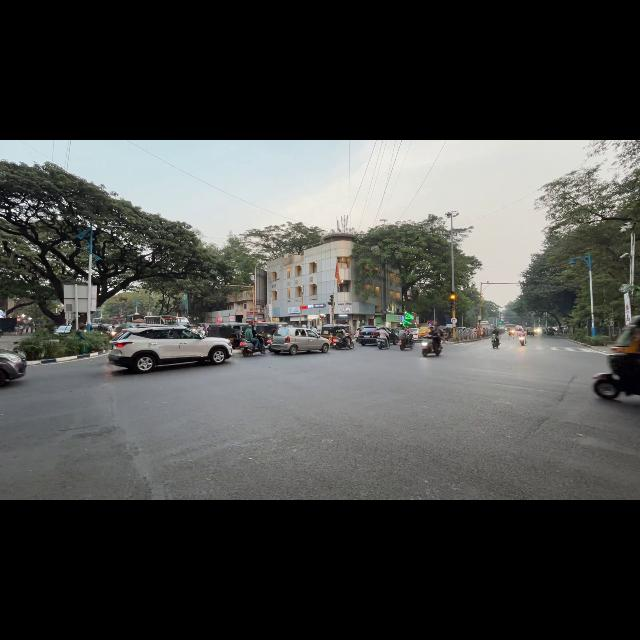bus: (145, 315, 177, 325), (125, 314, 145, 323)
car: (108, 325, 232, 372), (271, 328, 330, 354), (0, 350, 26, 385), (357, 326, 398, 345), (357, 326, 378, 345), (54, 325, 72, 336), (408, 328, 418, 340)
motorcycle: (593, 317, 639, 399), (593, 354, 639, 399), (593, 373, 639, 399), (240, 340, 264, 356), (422, 339, 441, 356), (333, 336, 354, 349), (399, 336, 413, 350), (377, 337, 388, 349), (491, 335, 499, 348), (519, 336, 525, 345)
